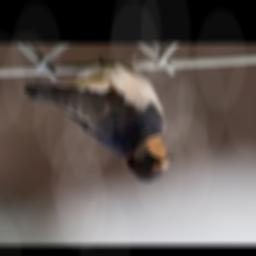Swallow: (22, 53, 176, 185)
